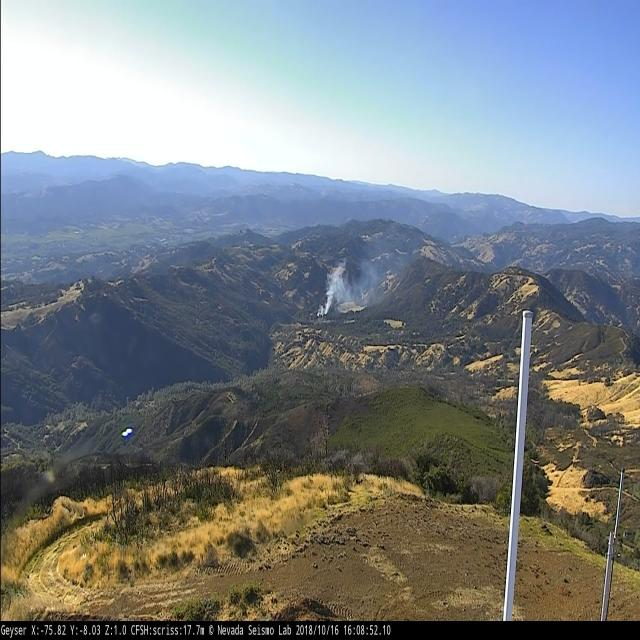smoke: (317, 262, 351, 320)
